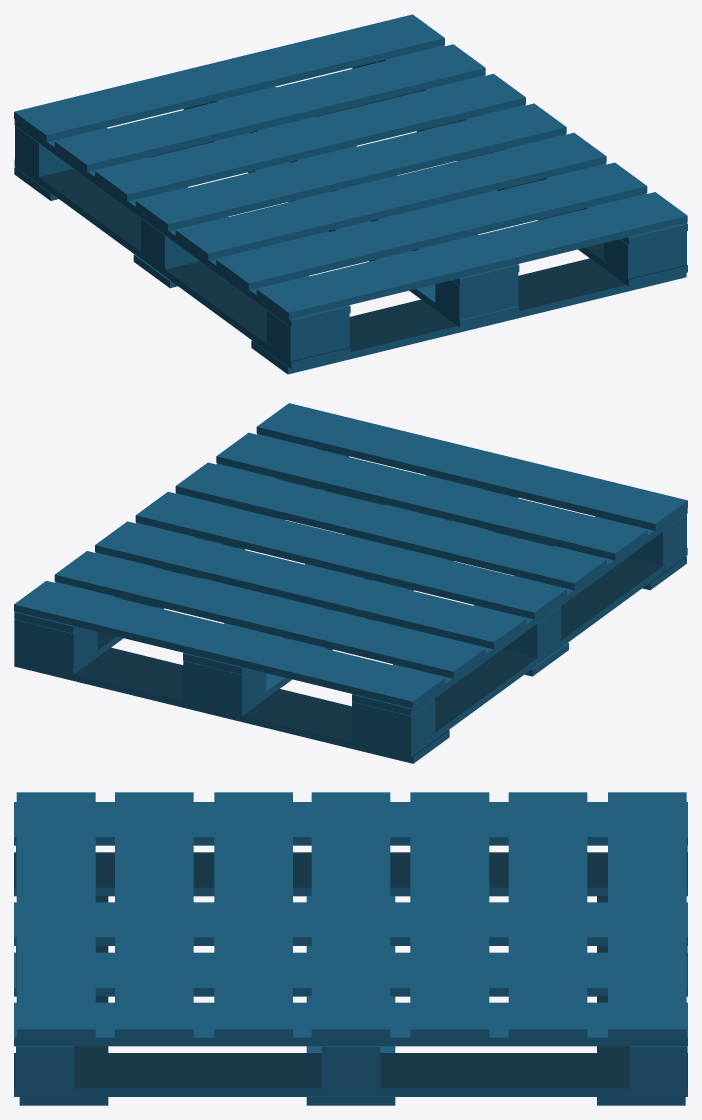
The model's file is ProtoChepEmpty2026.fbx.
The picture shows the model from 3 angles, top to bottom: view 1: azimuth 30°, elevation 25°; view 2: azimuth 150°, elevation 25°; view 3: azimuth 270°, elevation 25°; orthographic projection. The views are drawn at different scales.
Visible parts, largest first — view 1: ProtoChep2026; view 2: ProtoChep2026; view 3: ProtoChep2026.
Boxes of the visible parts, <box> form: ProtoChep2026: <box>14,14,687,374</box>; ProtoChep2026: <box>14,403,687,763</box>; ProtoChep2026: <box>14,792,687,1105</box>.
Size of the model in its own units: 1.02 by 1.22 by 0.152.
